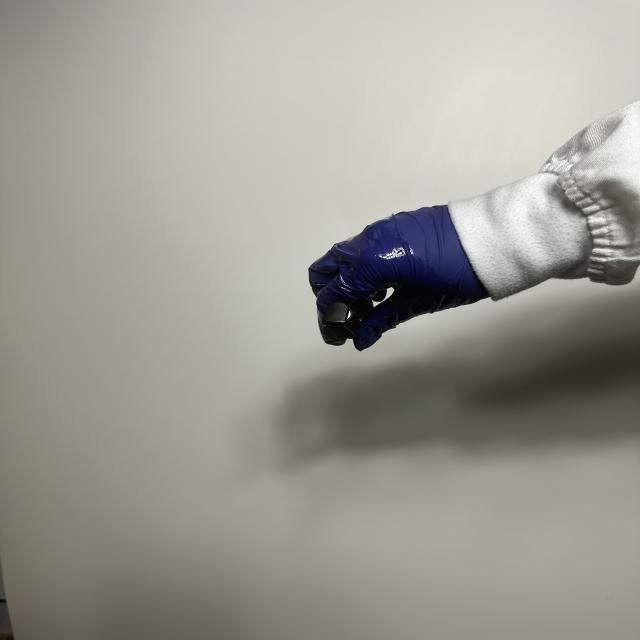gloves_contaminated: (309, 206, 488, 350)
